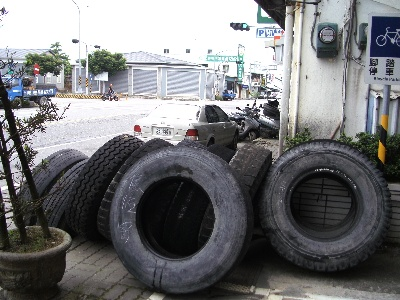tire: (108, 144, 253, 294), (261, 138, 393, 274), (67, 130, 145, 240)
